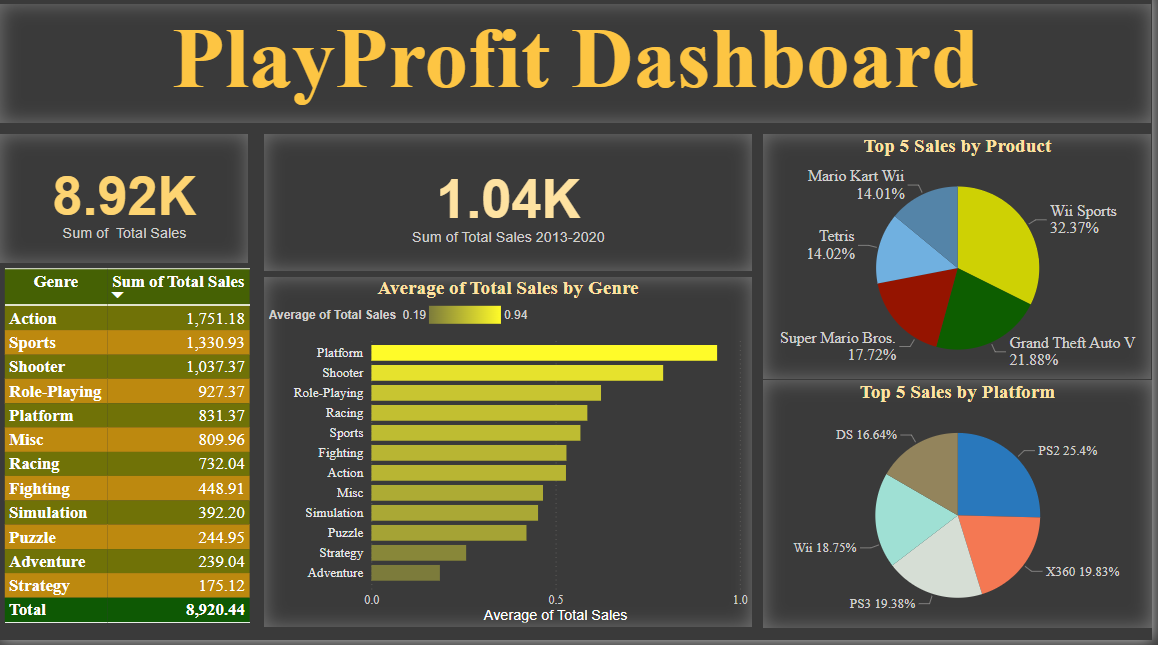

The dashboard page shown, as its layout file describes it:
{"tool":"powerbi","page":{"name":"Page 1","canvas":[1280,720],"ordinal":0},"visuals":[{"type":"card","fields":{"Values":["Sum(Video Game sales.Global_Sales)"]},"box":[0,158.7,275.9,143.6],"z":0},{"type":"pivotTable","fields":{"Rows":["Video Game sales.Genre"],"Values":["Sum(Video Game sales.Global_Sales)"]},"box":[0,302.4,292.9,417.6],"z":1000},{"type":"textbox","box":[0,13.2,1279.4,132.3],"z":2000},{"type":"card","fields":{"Values":["Sum(Video Game sales.Global_Sales)"]},"box":[292.9,158.7,542.4,151.2],"z":3000},{"type":"clusteredBarChart","title":"Average of Total Sales by Genre","fields":{"Category":["Video Game sales.Genre"],"Y":["Avg(Video Game sales.Global_Sales)"]},"box":[292.9,317.5,542.4,389.3],"z":4000},{"type":"pieChart","title":"Top 5 Sales by Product","fields":{"Category":["Video Game sales.Product Name"],"Y":["Sum(Video Game sales.Global_Sales)"]},"box":[848.5,158.7,430.9,272.1],"z":5000},{"type":"pieChart","title":"Top 5 Sales by Platform","fields":{"Category":["Video Game sales.Platform"],"Y":["Sum(Video Game sales.Global_Sales)"]},"box":[849,431,431,275],"z":6000}]}

Visuals, with their boxes in screenshot pixels (x1, y1, x2, y2), scaled from the page's 1280x720 canvas onto the 1158x645 screenshot:
card - Sum(Video Game sales.Global_Sales): 0/142/250/271
pivotTable - Video Game sales.Genre x Sum(Video Game sales.Global_Sales): 0/271/265/644
textbox: 0/12/1157/130
card - Sum(Video Game sales.Global_Sales): 265/142/756/278
"Average of Total Sales by Genre" clusteredBarChart: 265/284/756/633
"Top 5 Sales by Product" pieChart: 768/142/1157/386
"Top 5 Sales by Platform" pieChart: 768/386/1157/632
